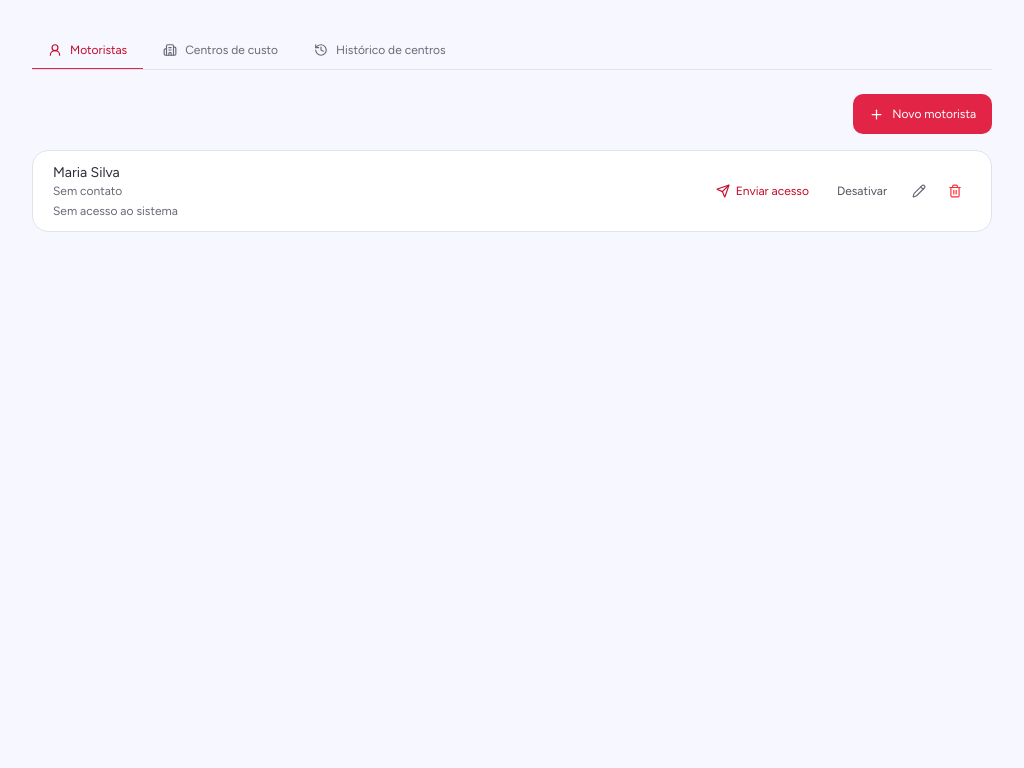
Test: Cadastros: acesso do motorista › pede o e-mail, recusa formato inválido e confirma o envio
The image size is (1024, 768).
Click the button with aria-label "Enviar acesso para Maria Silva" at (762, 191), box [704,175,821,207]
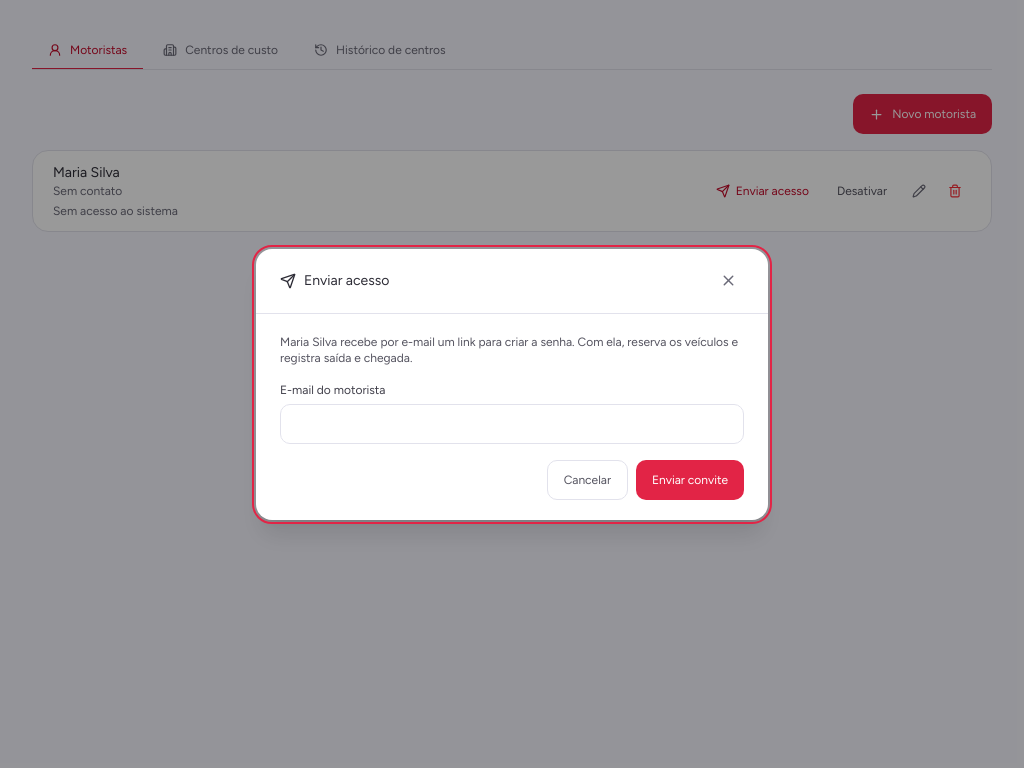
Type "maria@empresa" into the field labelled "E-mail do motorista" at (512, 424), box [280,404,744,444]
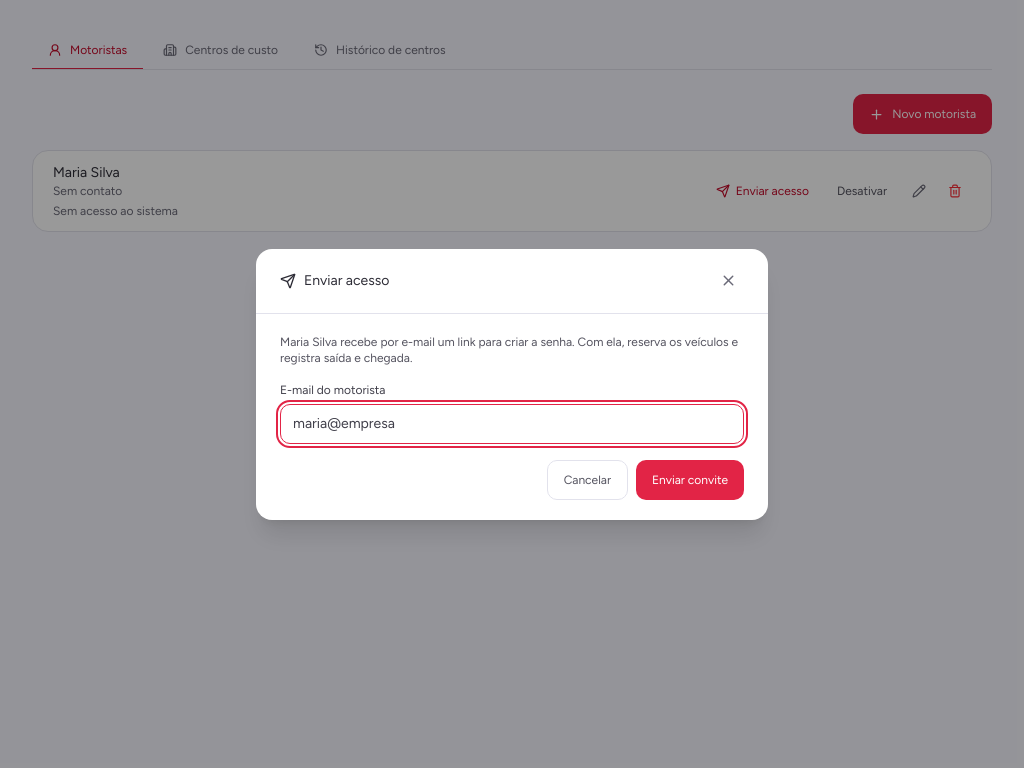
Click the button "Enviar convite" at (690, 480), box [636,460,744,500]
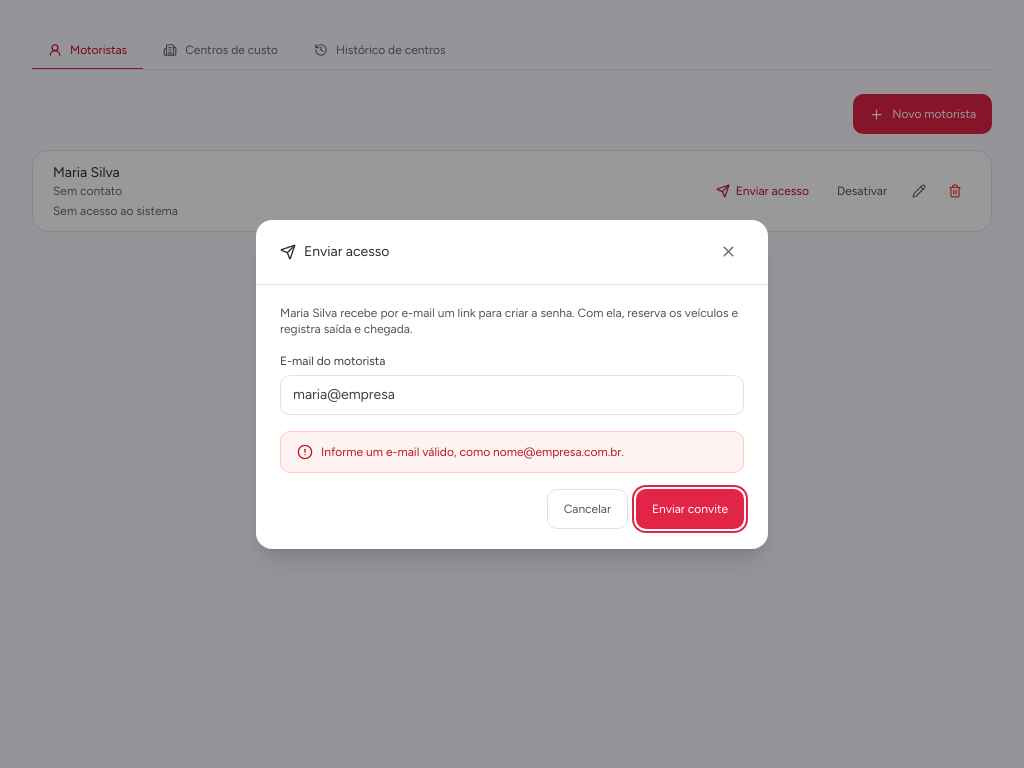
Now the message shows "Informe um e-mail válido", box [321,444,624,458]
Replace the text in the field labelled "E-mail do motorista" with "  maria@empresa.com.br " at (512, 394), box [280,374,744,414]
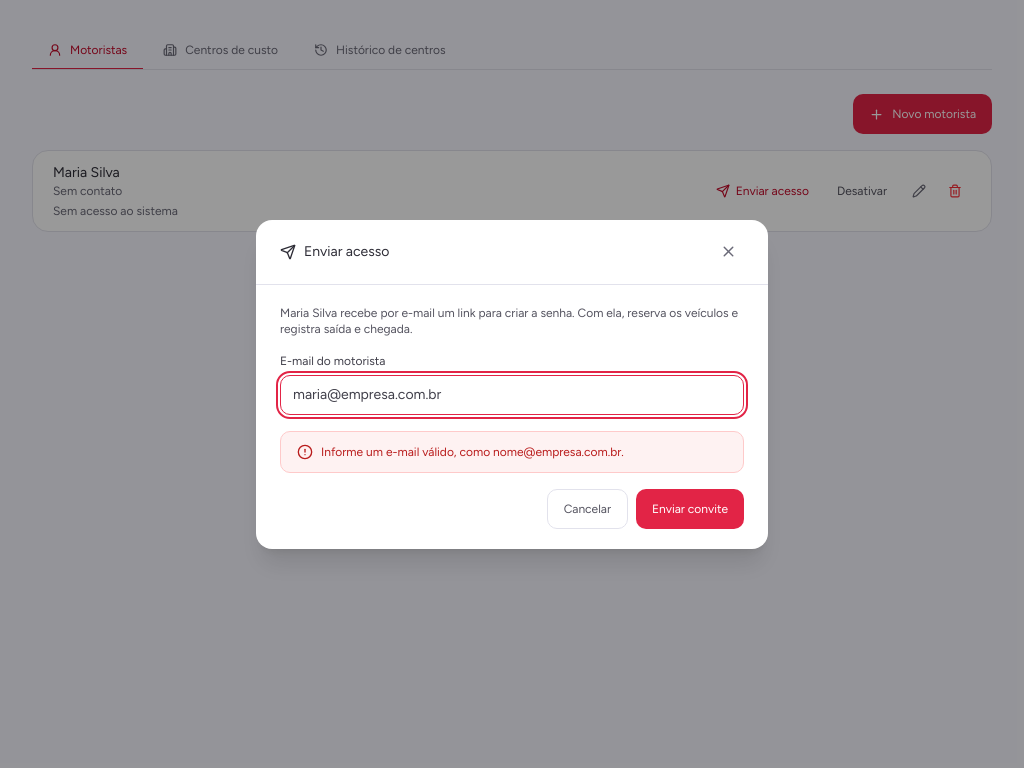
Click the button "Enviar convite" at (690, 508), box [636,488,744,528]
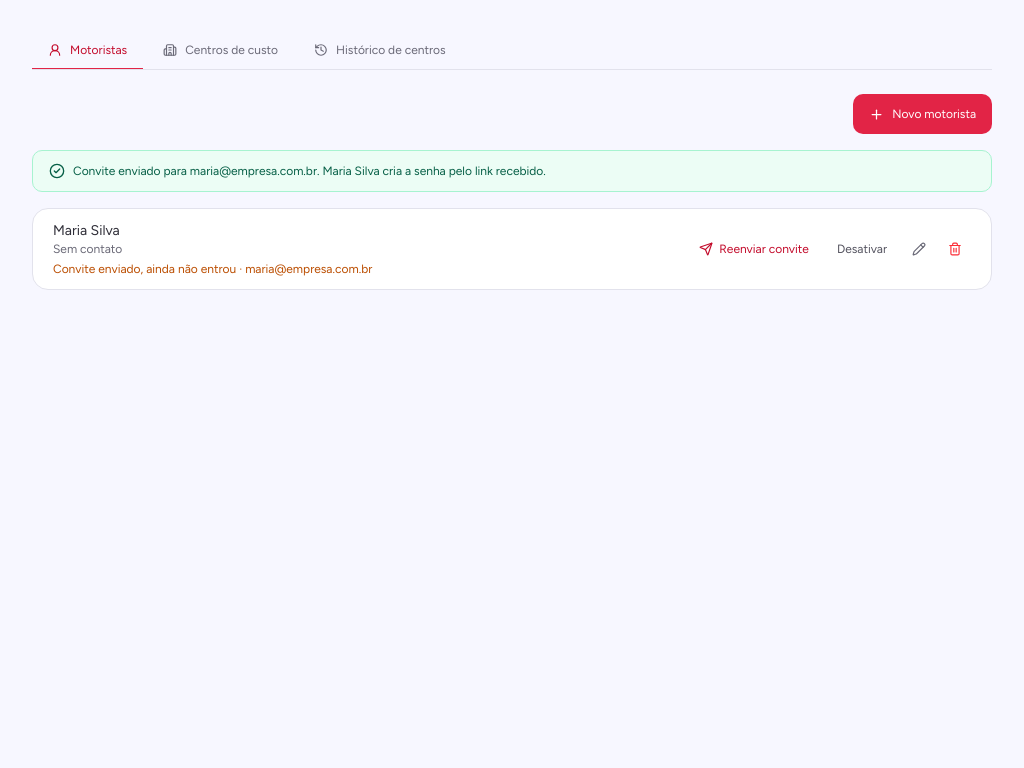
Now the message shows "Convite enviado para maria@empresa.com.br", box [73,164,546,178]
Now the label labelled "E-mail do motorista" is gone
Now the button with aria-label "Reenviar convite para Maria Silva" is shown, box [687,233,821,265]
